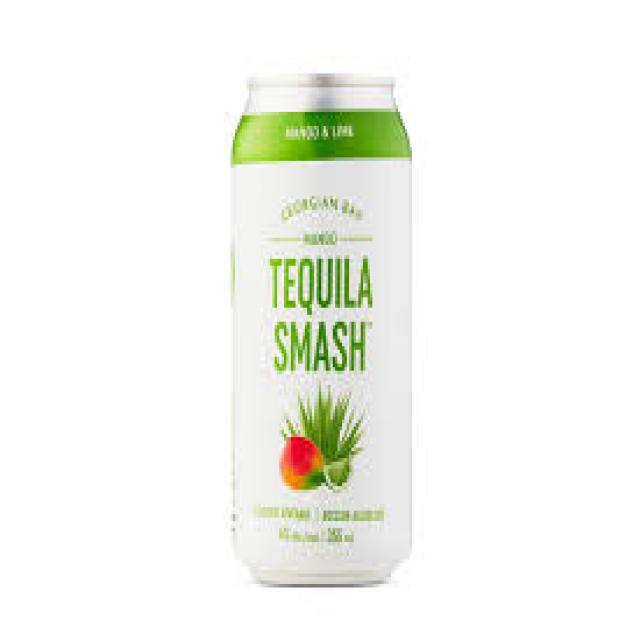Cans: (224, 56, 422, 594)
